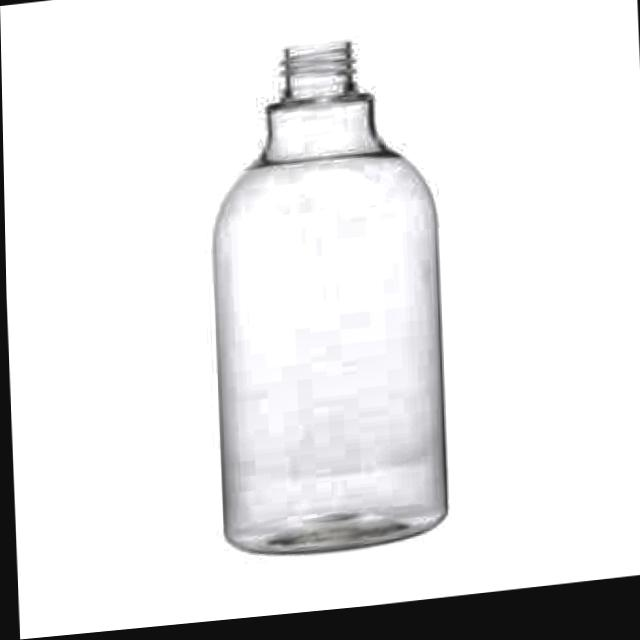Bottles: (151, 0, 494, 601)
